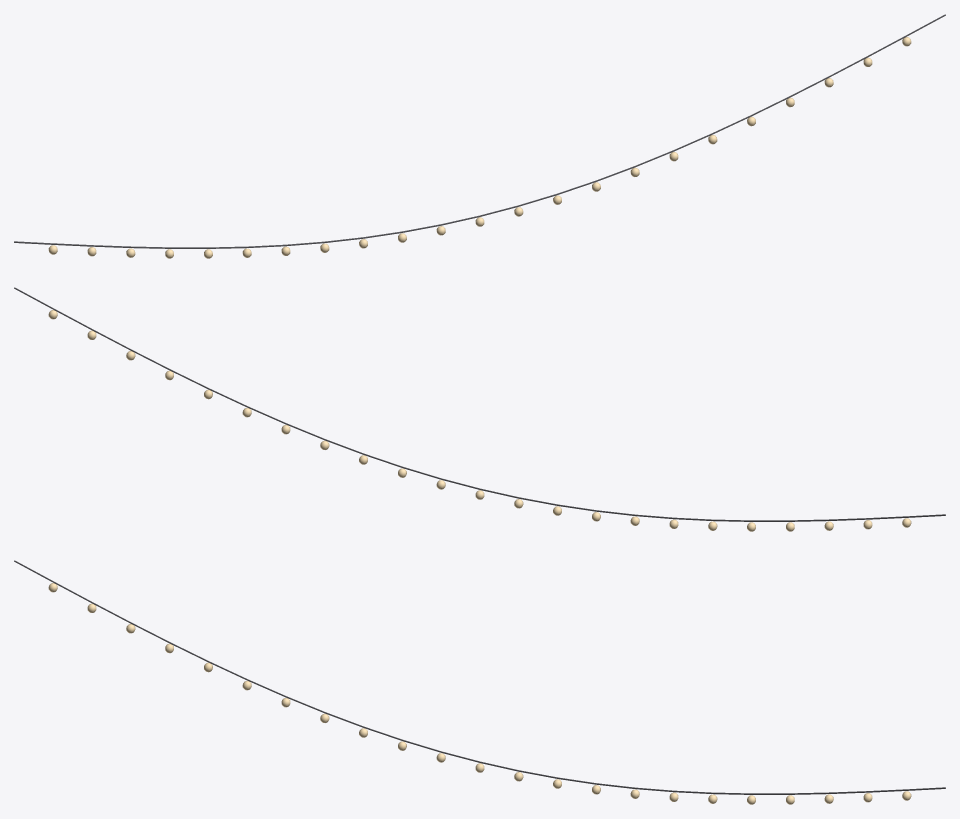
The model's file is SM_StringLights.fbx.
3 renders of one model, top to bottom at view 1: azimuth 30°, elevation 25°; view 2: azimuth 150°, elevation 25°; view 3: azimuth 330°, elevation 25°, orthographic.
Visible parts, largest first — view 1: SM_StringLights; view 2: SM_StringLights; view 3: SM_StringLights.
Part boxes in pixels (bbox=[...]): SM_StringLights: bbox=[14, 14, 945, 258]; SM_StringLights: bbox=[14, 287, 945, 531]; SM_StringLights: bbox=[14, 560, 945, 804].
Bounding box in the file's own units: 1000 × 101 × 8.56.
